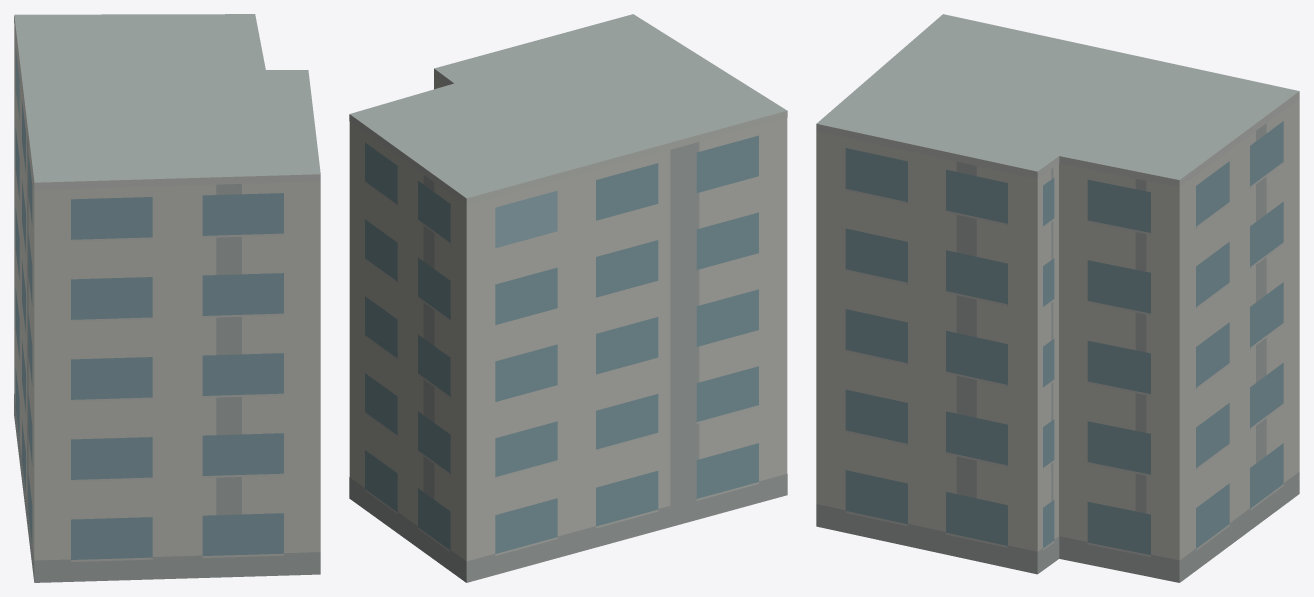
The model's file is survey-upis-32834598.glb.
3 renders of one model, left to right at view 1: azimuth 30°, elevation 25°; view 2: azimuth 150°, elevation 25°; view 3: azimuth 270°, elevation 25°, orthographic. The views are drawn at different scales.
Parts seen in each view (by area): view 1: survey-upis-32834598.tmp; view 2: survey-upis-32834598.tmp; view 3: survey-upis-32834598.tmp.
Boxes of the visible parts, box(x1,y1,x2,y2) form: survey-upis-32834598.tmp: box(14, 14, 320, 582); survey-upis-32834598.tmp: box(349, 14, 787, 582); survey-upis-32834598.tmp: box(816, 14, 1299, 582).
Bounding box in the file's own units: 11.69 × 13.2 × 14.36.
